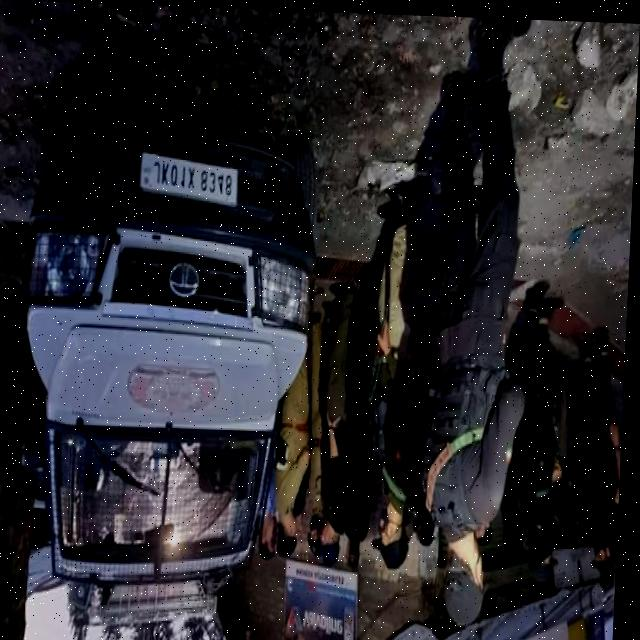plate: (135, 142, 246, 213)
